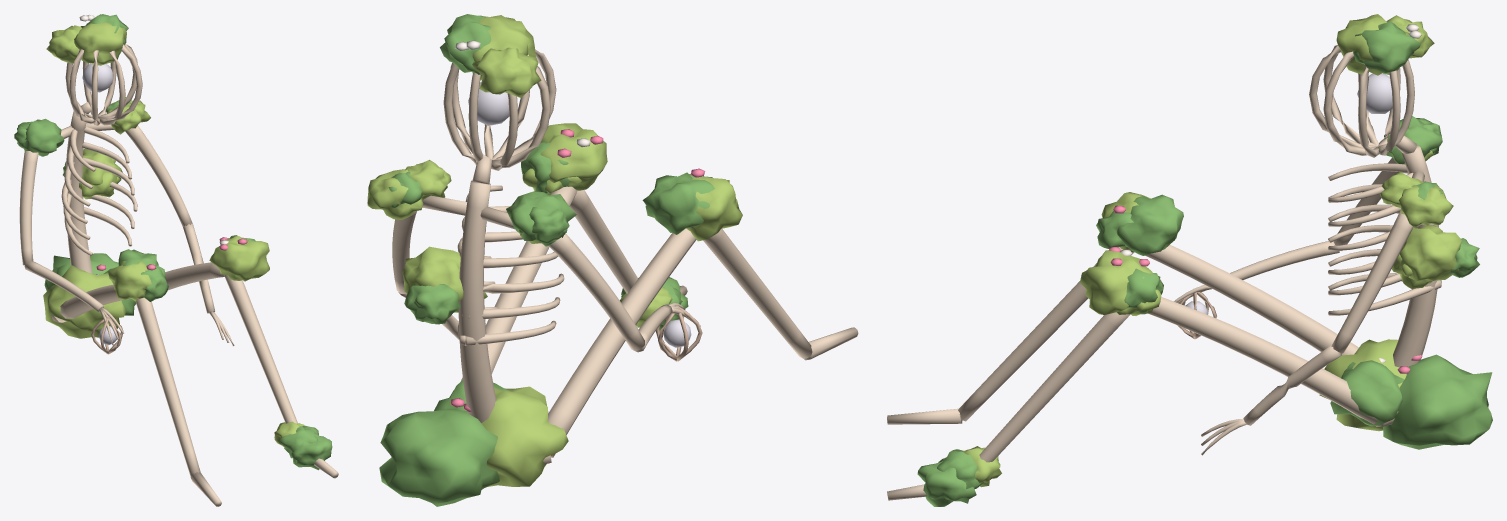
The model's file is squelette_semeur.glb.
3 views of the same model, side by side, from view 1: azimuth 30°, elevation 25°; view 2: azimuth 150°, elevation 25°; view 3: azimuth 270°, elevation 25° (orthographic). The views are drawn at different scales.
Visible parts, largest first — view 1: mousse.016, tibia, tibia.001, mousse.012, colonne, mousse.002, bras.002, bras.003, mousse.010, mousse.005, femur.001, femur (+20 smaller); view 2: mousse.015, colonne, mousse.016, femur, tibia, mousse.012, mousse.011, bras.002, mousse, femur.001, tibia.001, mousse.018 (+25 smaller); view 3: mousse.015, femur.001, femur, tibia.001, tibia, mousse.017, mousse.011, mousse.018, colonne, bras.003, mousse.012, mousse.001 (+22 smaller).
Part boxes in pixels (<box>): mousse.016: <box>43,265,126,338</box>; tibia: <box>136,297,200,476</box>; tibia.001: <box>224,274,297,423</box>; mousse.012: <box>209,235,269,281</box>; colonne: <box>66,111,92,273</box>; mousse.002: <box>74,22,126,65</box>; bras.002: <box>19,151,38,265</box>; bras.003: <box>125,125,192,227</box>; mousse.010: <box>108,261,151,301</box>; mousse.005: <box>18,118,64,156</box>; femur.001: <box>165,262,224,290</box>; femur: <box>54,284,131,322</box>; mousse.015: <box>379,409,499,506</box>; colonne: <box>458,180,496,422</box>; mousse.016: <box>481,386,568,486</box>; femur: <box>548,228,696,457</box>; tibia: <box>703,229,812,358</box>; mousse.012: <box>537,123,607,190</box>; mousse.011: <box>642,172,714,234</box>; bras.002: <box>549,233,644,350</box>; mousse: <box>472,47,541,97</box>; femur.001: <box>461,186,577,381</box>; tibia.001: <box>570,190,637,293</box>; mousse.018: <box>402,246,463,302</box>; mousse.015: <box>1383,354,1492,449</box>; femur.001: <box>1148,297,1378,424</box>; femur: <box>1145,245,1358,355</box>; tibia.001: <box>979,312,1130,462</box>; tibia: <box>958,247,1133,421</box>; mousse.017: <box>1330,360,1404,426</box>; mousse.011: <box>1116,194,1183,255</box>; mousse.018: <box>1399,225,1461,280</box>; colonne: <box>1393,145,1438,367</box>; bras.003: <box>1331,209,1413,353</box>; mousse.012: <box>1080,250,1160,314</box>; mousse.001: <box>1353,21,1420,74</box>.
Bounding box in the file's own units: 1.59 × 3.06 × 3.7.
